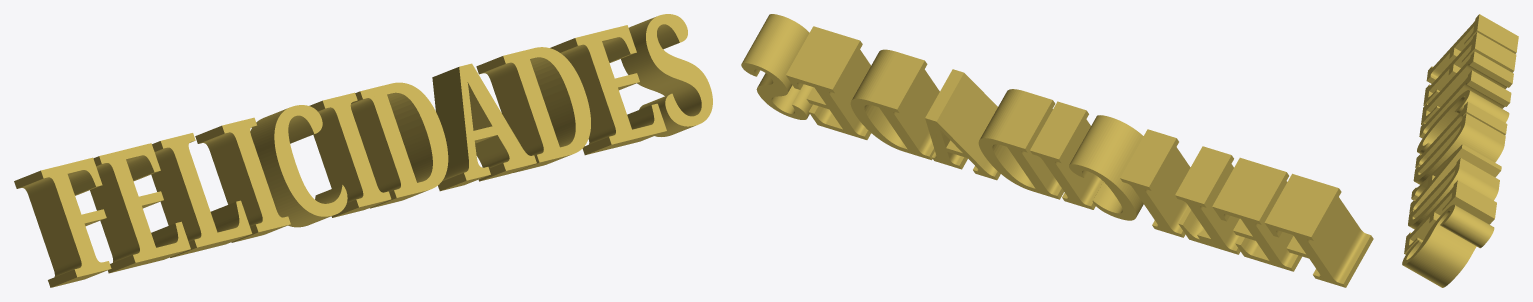
File: felicidades.glb
3 views of the same model, side by side, from view 1: azimuth 30°, elevation 25°; view 2: azimuth 150°, elevation 25°; view 3: azimuth 270°, elevation 25° (orthographic). The views are drawn at different scales.
Parts seen in each view (by area): view 1: Mesh_Mesh_head_geo.001_lambert2SG.001; view 2: Mesh_Mesh_head_geo.001_lambert2SG.001; view 3: Mesh_Mesh_head_geo.001_lambert2SG.001.
Boxes of the visible parts, x1=… form: Mesh_Mesh_head_geo.001_lambert2SG.001: x1=14, y1=14, x2=712, y2=287; Mesh_Mesh_head_geo.001_lambert2SG.001: x1=741, y1=14, x2=1373, y2=287; Mesh_Mesh_head_geo.001_lambert2SG.001: x1=1402, y1=14, x2=1518, y2=287.
Bounding box in the file's own units: 0.172 × 0.0348 × 0.0394.
